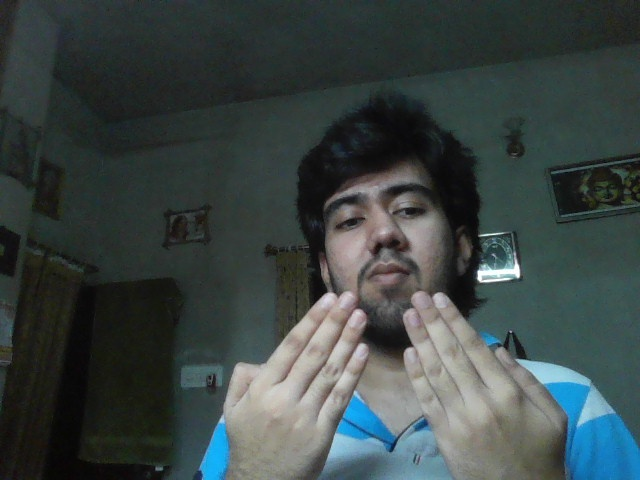ThankYou: (223, 290, 569, 480)
